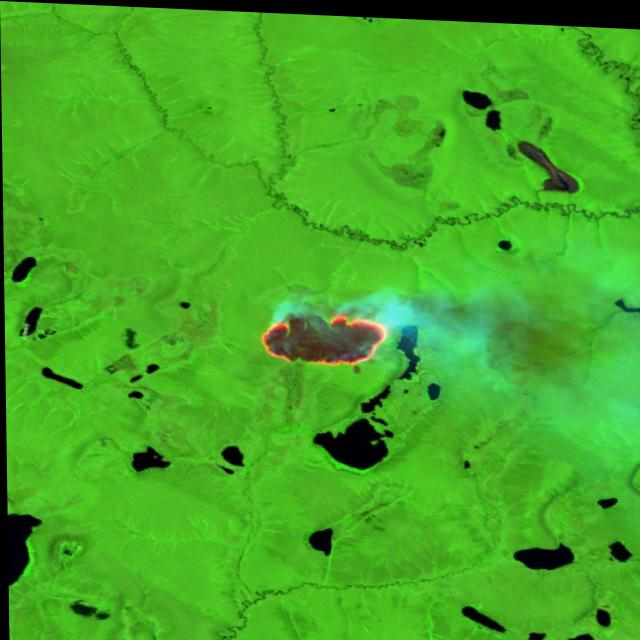fire: (241, 301, 396, 371)
